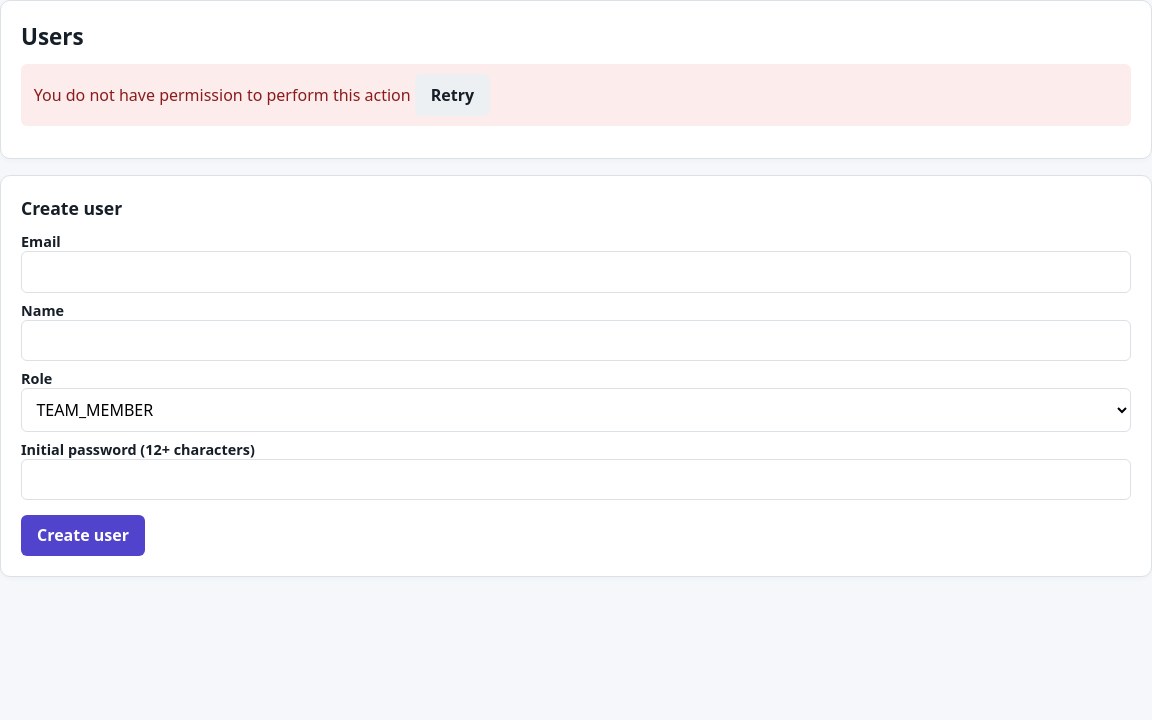
Test: UsersAdminPage › shows the error and a working Retry button when loading fails
Check: the message shows "You do not have permission", box [34,84,411,106]
Click the button "Retry" at coordinates (452, 95), box [415,74,490,116]
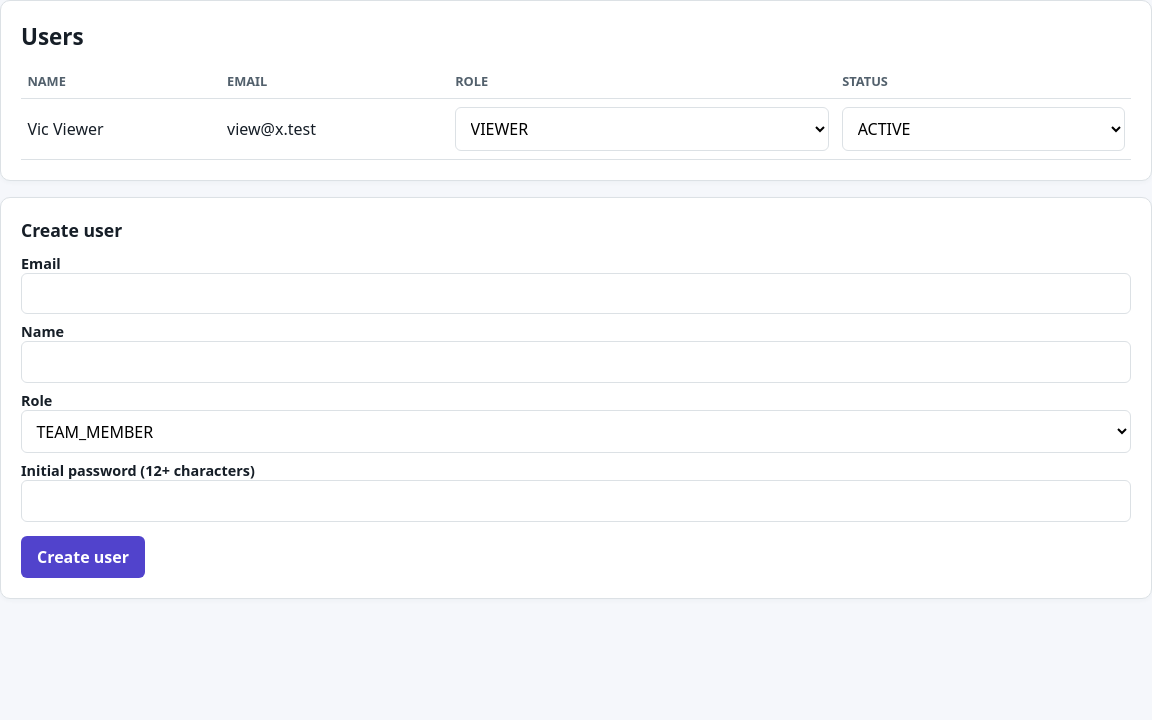
Check: the text "view@x.test" is shown, box [221,98,449,159]
